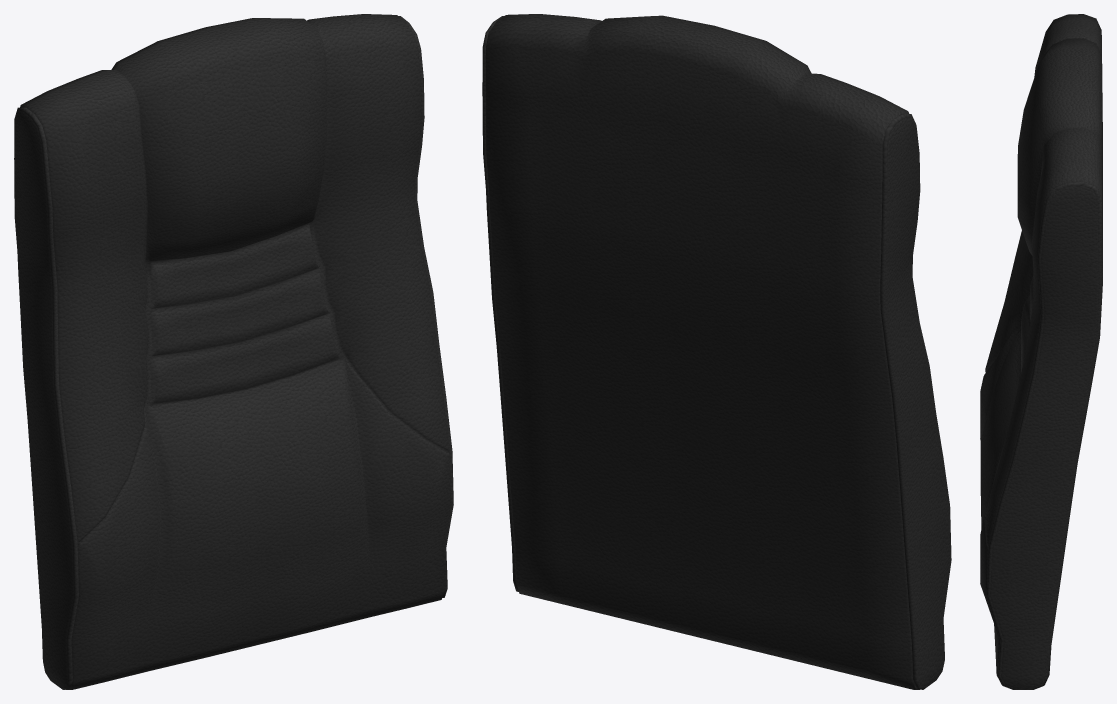
The picture shows the model from 3 angles, left to right: view 1: azimuth 30°, elevation 25°; view 2: azimuth 150°, elevation 25°; view 3: azimuth 270°, elevation 25°; orthographic projection. The views are drawn at different scales.
Visible parts, largest first — view 1: part8:backrest 1; view 2: part8:backrest 1; view 3: part8:backrest 1.
Boxes of the visible parts, x1,y1,x2,y2 form: part8:backrest 1: [14, 14, 453, 689]; part8:backrest 1: [482, 14, 951, 689]; part8:backrest 1: [980, 14, 1102, 689].
Size of the model in its own units: 0.4534 by 0.6715 by 0.1383.
1 material, 1 textured.
